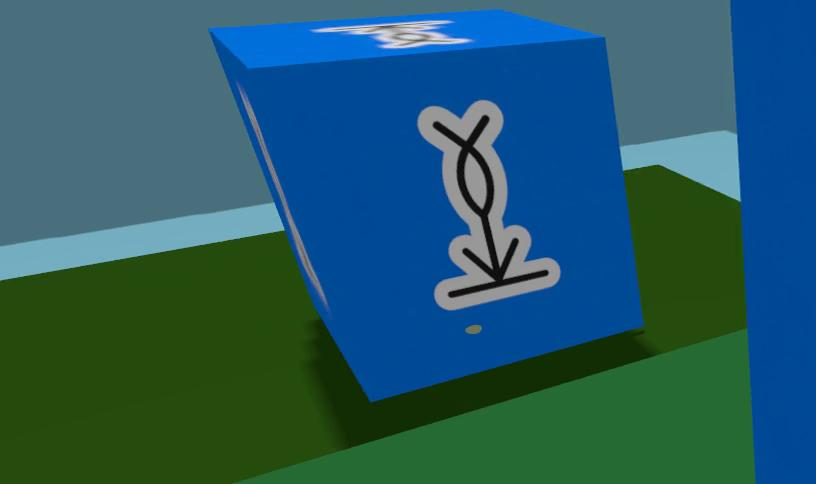KFS_REAL: (210, 10, 640, 400), (733, 0, 816, 484), (418, 100, 560, 310), (314, 21, 471, 49)
